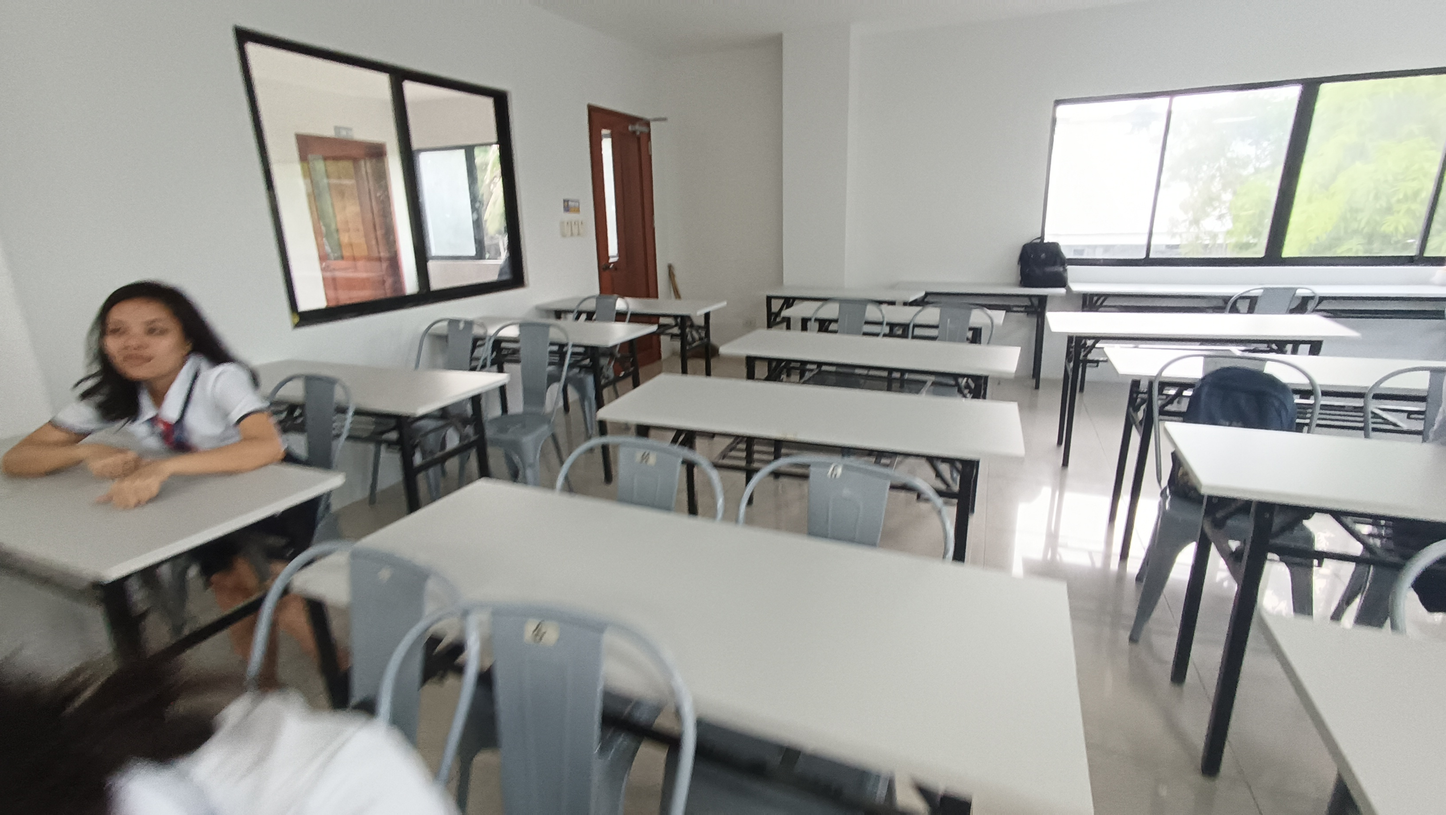with-student: (0, 260, 348, 604)
